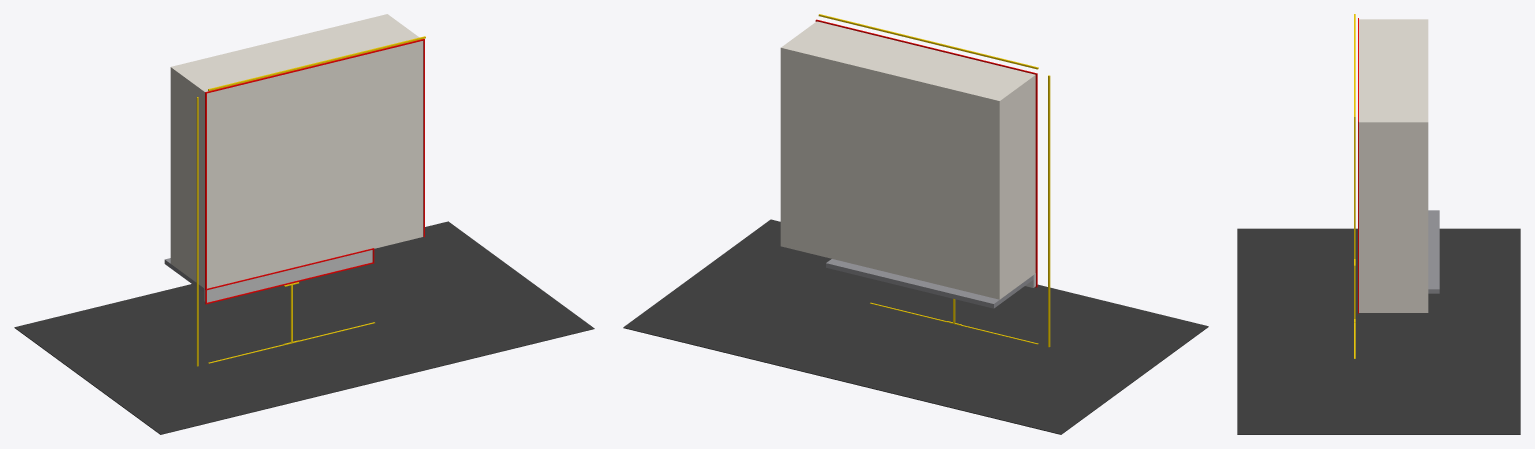
Rendered from site_canopy_wall.obj.
The picture shows the model from 3 angles, left to right: view 1: azimuth 30°, elevation 25°; view 2: azimuth 150°, elevation 25°; view 3: azimuth 270°, elevation 25°; orthographic projection. The views are drawn at different scales.
Visible parts, largest first — view 1: Ground, BLANK_WALL, CANOPY_BAND, MARKER_Ground_to_Wall_Top_35.5m, MARKER_Wall_Width_30m; view 2: BLANK_WALL, Ground, Context_Canopy_Slab, MARKER_Ground_to_Wall_Top_35.5m, MARKER_Wall_Width_30m, WALL_OUTLINE_Left; view 3: Ground, BLANK_WALL, Context_Canopy_Slab, MARKER_Ground_to_Wall_Top_35.5m.
Boxes of the visible parts, x1,y1,x2,y2 form: Ground: (14, 221, 594, 434); BLANK_WALL: (170, 14, 423, 288); CANOPY_BAND: (204, 250, 372, 302); MARKER_Ground_to_Wall_Top_35.5m: (196, 97, 198, 366); MARKER_Wall_Width_30m: (208, 36, 425, 90); BLANK_WALL: (780, 21, 1035, 299); Ground: (623, 219, 1208, 434); Context_Canopy_Slab: (826, 259, 1033, 308); MARKER_Ground_to_Wall_Top_35.5m: (1048, 75, 1050, 347); MARKER_Wall_Width_30m: (818, 14, 1038, 69); WALL_OUTLINE_Left: (1035, 75, 1037, 273); Ground: (1237, 228, 1520, 434); BLANK_WALL: (1359, 19, 1428, 312); Context_Canopy_Slab: (1428, 210, 1439, 293); MARKER_Ground_to_Wall_Top_35.5m: (1354, 14, 1355, 258).
Size of the model in its own units: 60 by 36.3 by 35.
